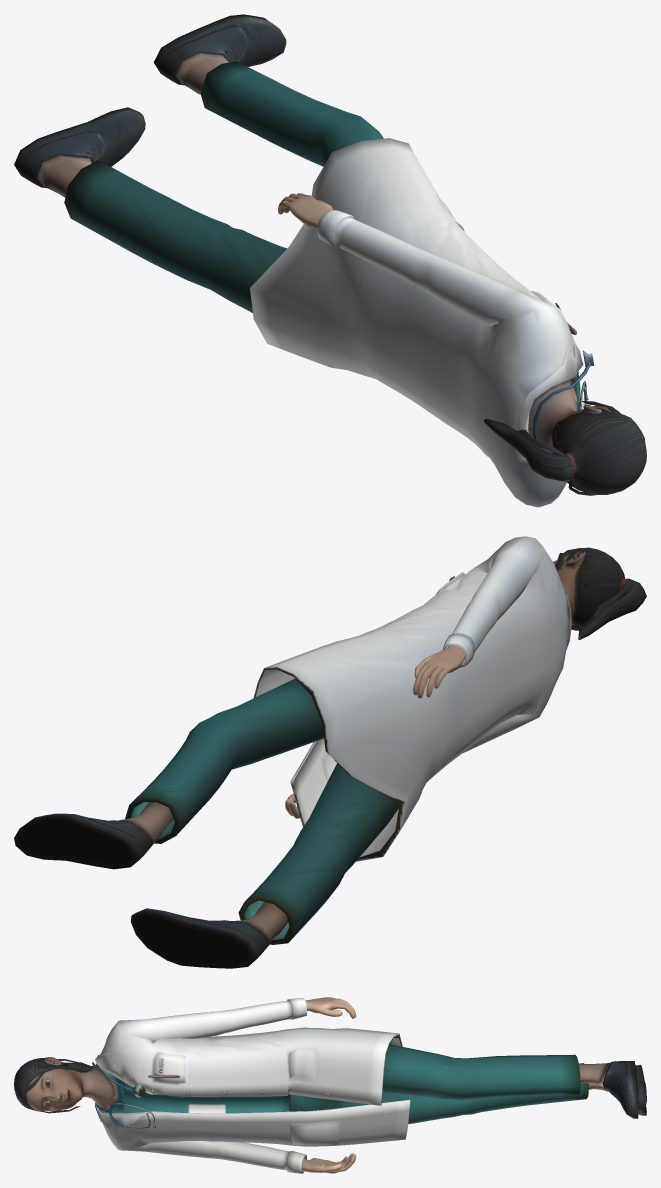
Rendered from walk.obj.
The picture shows the model from 3 angles, top to bottom: view 1: azimuth 30°, elevation 25°; view 2: azimuth 150°, elevation 25°; view 3: azimuth 270°, elevation 25°; orthographic projection. The views are drawn at different scales.
Size of the model in its own units: 0.5294 by 0.3985 by 1.72.
Materials: 1 (1 with a texture image).
